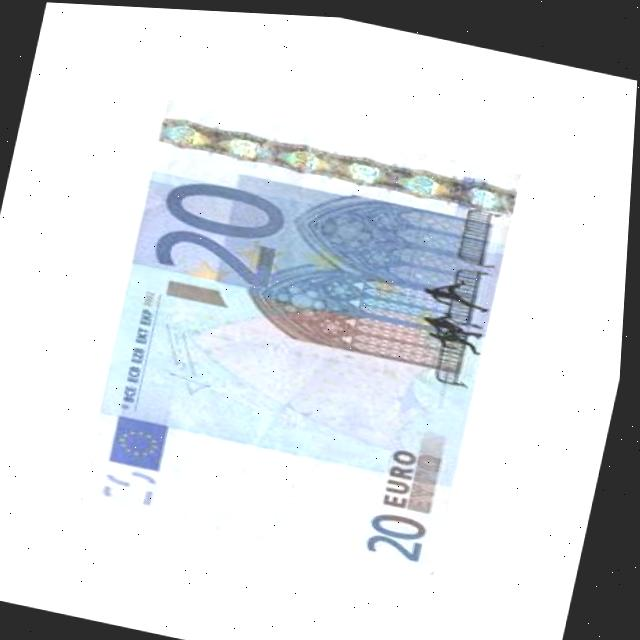banknote: (79, 92, 533, 577), (385, 192, 509, 387), (148, 163, 303, 295), (365, 501, 449, 563), (97, 457, 176, 513), (403, 160, 449, 196), (167, 116, 213, 147), (290, 142, 331, 172)
